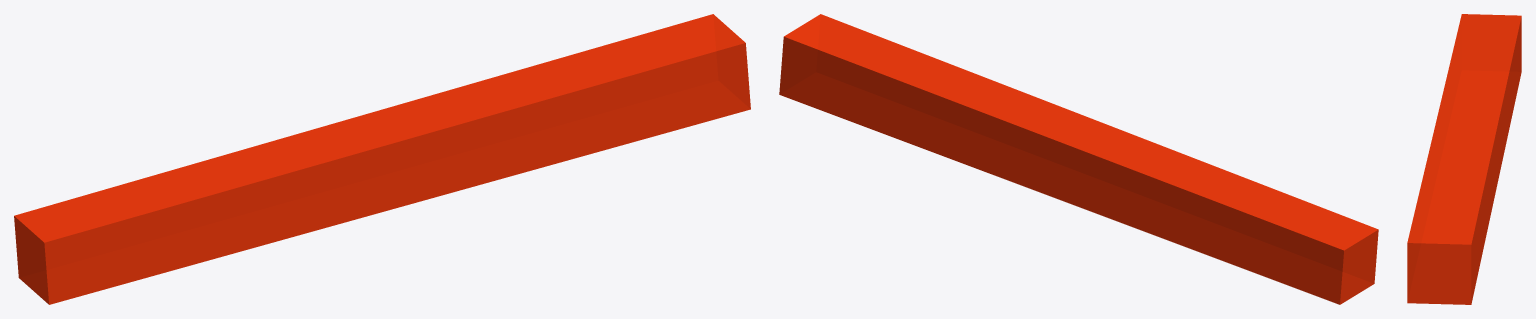
The model's file is Event_420107950_EErechit_43.fbx.
The picture shows the model from 3 angles, left to right: view 1: azimuth 30°, elevation 25°; view 2: azimuth 150°, elevation 25°; view 3: azimuth 270°, elevation 25°; orthographic projection. The views are drawn at different scales.
Parts seen in each view (by area): view 1: Model; view 2: Model; view 3: Model.
Part boxes in pixels (x1,y1,x2,y2): Model: [14, 14, 750, 304]; Model: [779, 14, 1378, 304]; Model: [1407, 14, 1521, 304].
Bounding box in the file's own units: 0.8121 × 0.1409 × 0.1382.
